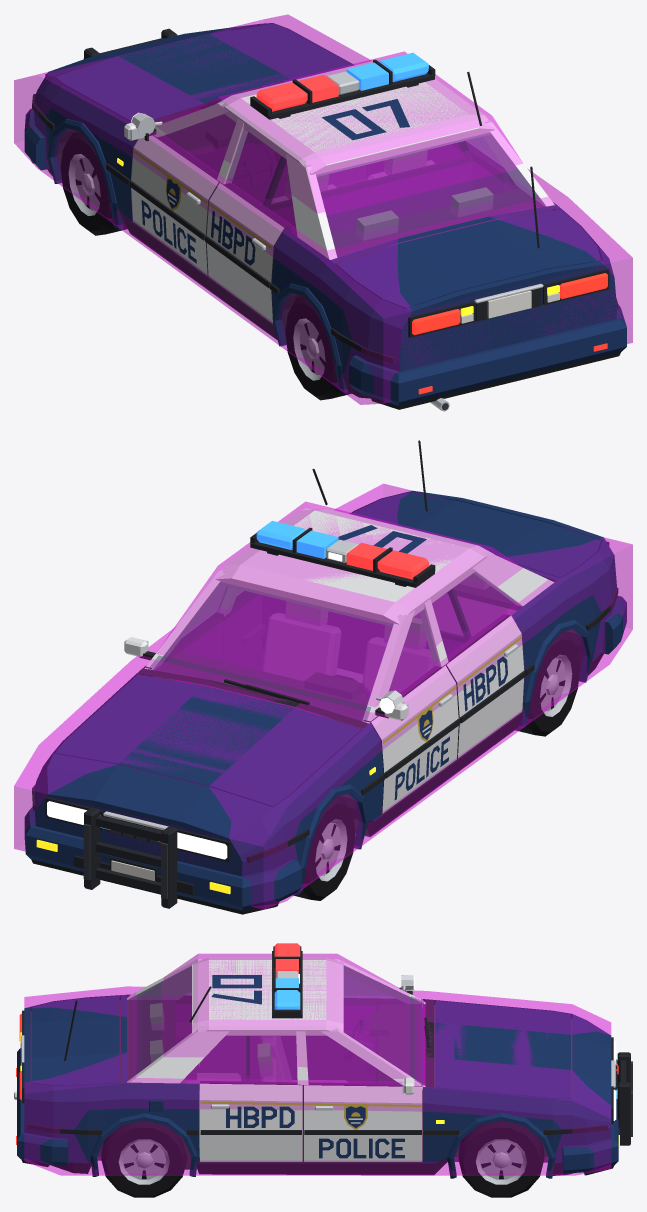
Rendered from police_cruiser.glb.
3 views of the same model, one above another, from view 1: azimuth 30°, elevation 25°; view 2: azimuth 150°, elevation 25°; view 3: azimuth 270°, elevation 25° (orthographic). The views are drawn at different scales.
Visible parts, largest first — view 1: Body, Col_Body, Col_Cabin, Glass_Rear, Hood, Trunk, Door_FL, Door_RL, Glass_L, Wheel_FL, Wheel_RL, Door_RR (+1 smaller); view 2: Body, Col_Body, Col_Cabin, Hood, Glass_Windshield, Trunk, Door_FL, Door_RL, Glass_L, Wheel_RL, Wheel_FL, Door_RR (+1 smaller); view 3: Body, Col_Body, Col_Cabin, Hood, Door_FR, Door_RR, Trunk, Glass_R, Glass_Windshield, Wheel_FR, Wheel_RR, Glass_Rear (+3 smaller).
Boxes of the visible parts, box(x1,y1,x2,y2) form: Body: box(24, 23, 626, 411); Col_Body: box(14, 14, 632, 404); Col_Cabin: box(156, 51, 535, 244); Glass_Rear: box(309, 133, 545, 257); Hood: box(55, 23, 352, 122); Trunk: box(336, 209, 601, 308); Door_FL: box(124, 123, 218, 275); Door_RL: box(205, 182, 291, 323); Glass_L: box(159, 113, 296, 235); Wheel_FL: box(60, 131, 127, 235); Wheel_RL: box(285, 296, 351, 400); Door_RR: box(443, 143, 508, 193); Body: box(24, 440, 626, 914); Col_Body: box(14, 483, 632, 909); Col_Cabin: box(156, 501, 522, 717); Hood: box(55, 674, 361, 806); Glass_Windshield: box(149, 582, 400, 722); Trunk: box(351, 493, 601, 580); Door_FL: box(364, 665, 460, 813); Door_RL: box(446, 614, 525, 758); Glass_L: box(389, 572, 521, 695); Wheel_RL: box(515, 632, 580, 736); Wheel_FL: box(292, 797, 355, 900); Door_RR: box(231, 591, 265, 670); Body: box(14, 943, 632, 1178); Col_Body: box(24, 986, 611, 1175); Col_Cabin: box(142, 953, 425, 1089); Hood: box(435, 1000, 570, 1098); Door_FR: box(304, 1077, 422, 1161); Door_RR: box(200, 1081, 302, 1161); Trunk: box(31, 995, 119, 1085); Glass_R: box(181, 1035, 400, 1084); Glass_Windshield: box(344, 966, 423, 1085); Wheel_FR: box(458, 1120, 544, 1197); Wheel_RR: box(101, 1120, 186, 1197); Glass_Rear: box(129, 966, 191, 1079).
Size of what is drawn, in the model's own units: 2.1 by 1.76 by 5.06.
